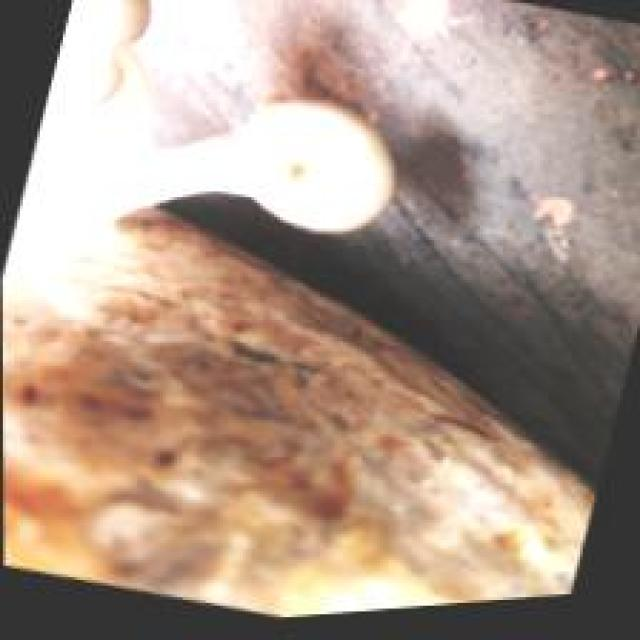death-cap: (0, 0, 637, 620)
